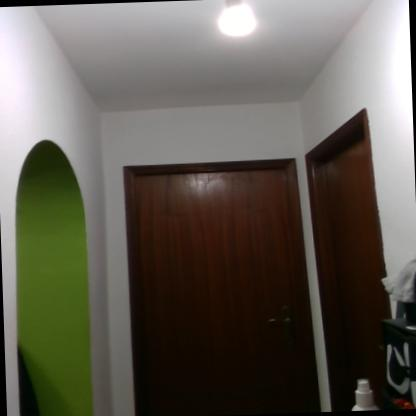closed: (109, 143, 325, 416), (310, 99, 384, 412)
